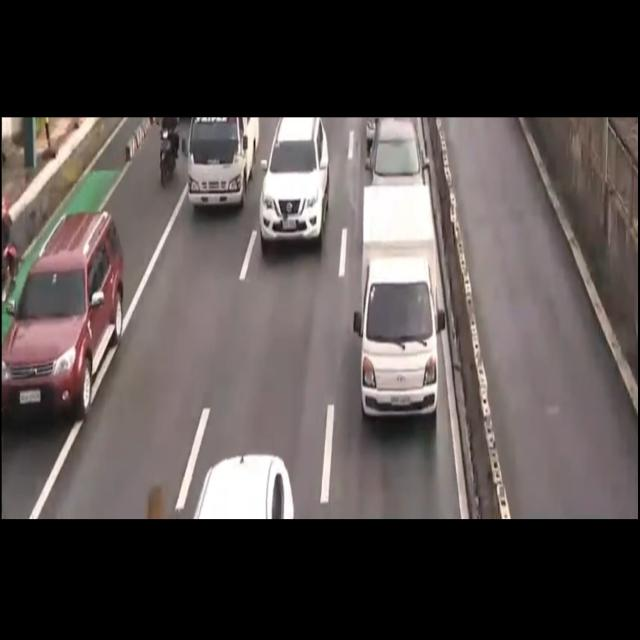Motorcycle: (152, 104, 182, 198)
Pick-up: (350, 187, 440, 419)
SUV: (1, 214, 123, 426), (260, 127, 329, 243)
Sedan: (362, 120, 432, 206)
Truck: (183, 117, 259, 212)
